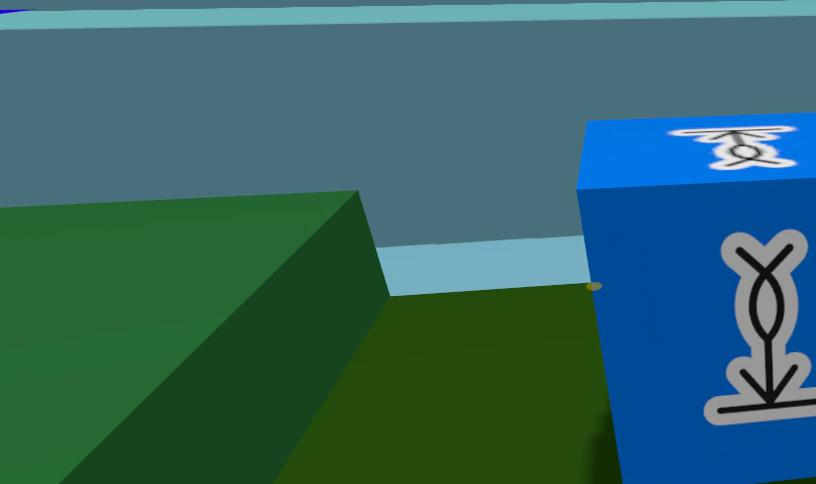KFS_REAL: (577, 113, 816, 484), (705, 229, 816, 425), (670, 125, 796, 169)
